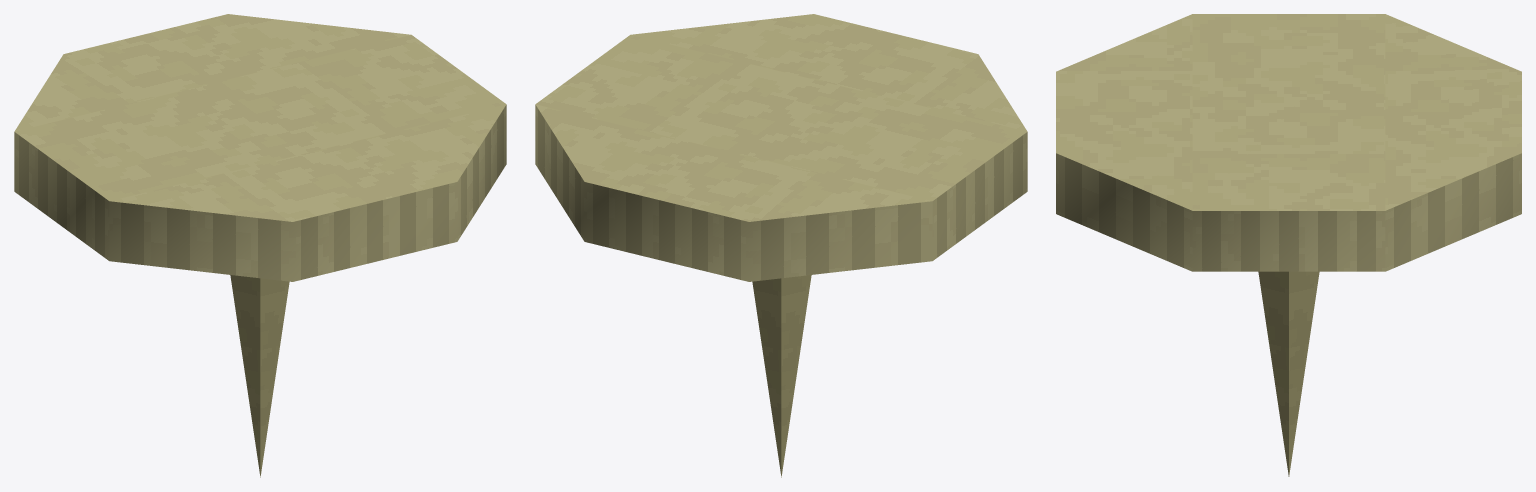
File: 0327_Thumbtack.glb
3 renders of one model, left to right at view 1: azimuth 30°, elevation 25°; view 2: azimuth 150°, elevation 25°; view 3: azimuth 270°, elevation 25°, orthographic.
Visible parts, largest first — view 1: part_0; view 2: part_0; view 3: part_0.
Boxes of the visible parts, <box> form: part_0: <box>14,14,506,477</box>; part_0: <box>535,14,1027,477</box>; part_0: <box>1056,14,1521,476</box>.
Bounding box in the file's own units: 0.0139 × 0.012 × 0.0139.
1 material, 1 textured.
